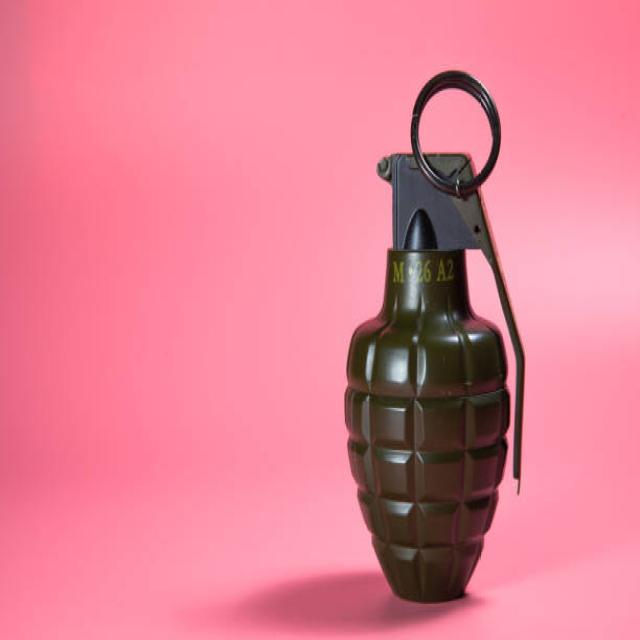grenade: (329, 58, 534, 607)
